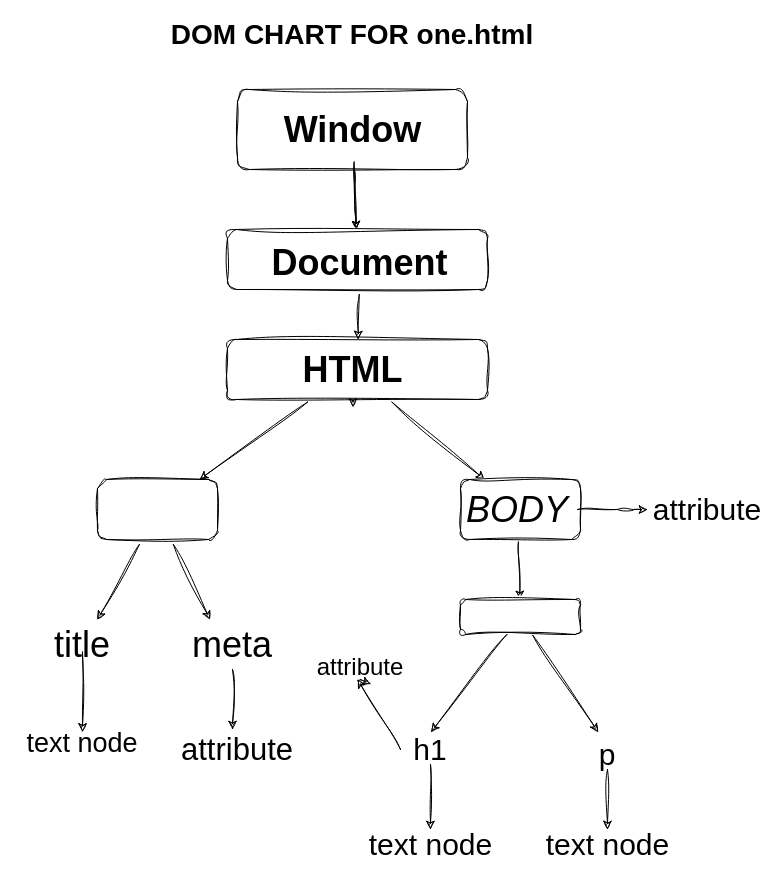
Some shapes in this 778 by 879 pixel diagram are drawn without their labels. Each missing label, with the centre of its shape:
"DIV" goes at (x=520, y=616).
"HEAD" goes at (x=157, y=509).
